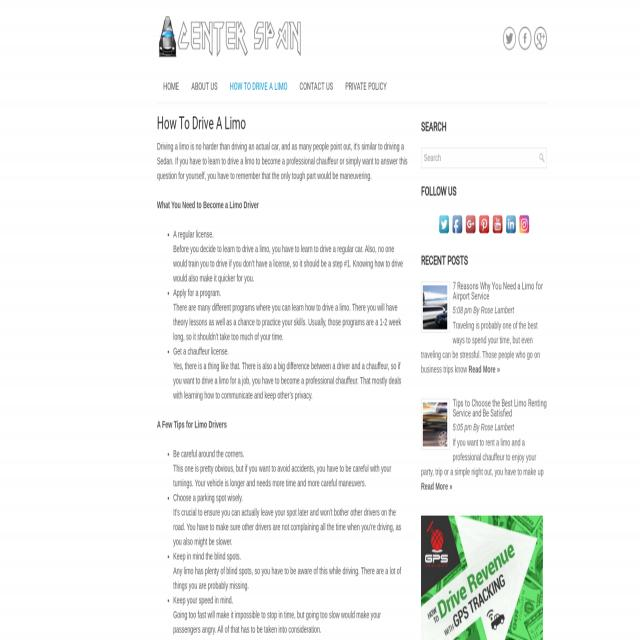button: (421, 515, 543, 640), (157, 16, 302, 58), (223, 73, 293, 103), (339, 73, 393, 103), (421, 281, 449, 333), (421, 399, 449, 450), (293, 73, 339, 103), (185, 73, 223, 103), (157, 73, 185, 103), (504, 212, 518, 236), (464, 212, 478, 236), (518, 27, 532, 50), (451, 212, 464, 236), (478, 212, 491, 236), (491, 212, 504, 236), (503, 27, 516, 50), (534, 27, 547, 50), (518, 212, 530, 236), (438, 212, 450, 236)
field: (421, 148, 546, 168)
